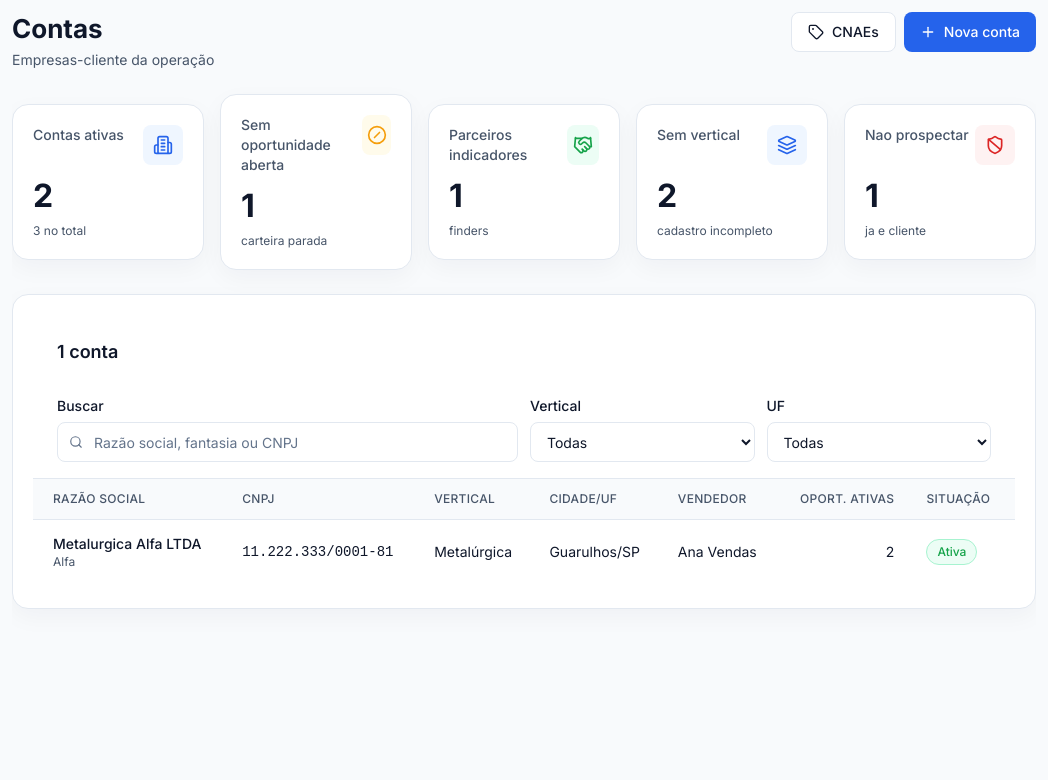
Scenario: Contas — drilldown pelos KPIs › mostra o botão de limpar quando há filtro ativo
The image size is (1048, 780).
Expected: the text "Metalurgica Alfa LTDA" is shown, [53, 534, 210, 554]
Click the button "Parceiros indicadores 1 finders" at coordinates (524, 182), box [428, 94, 620, 270]
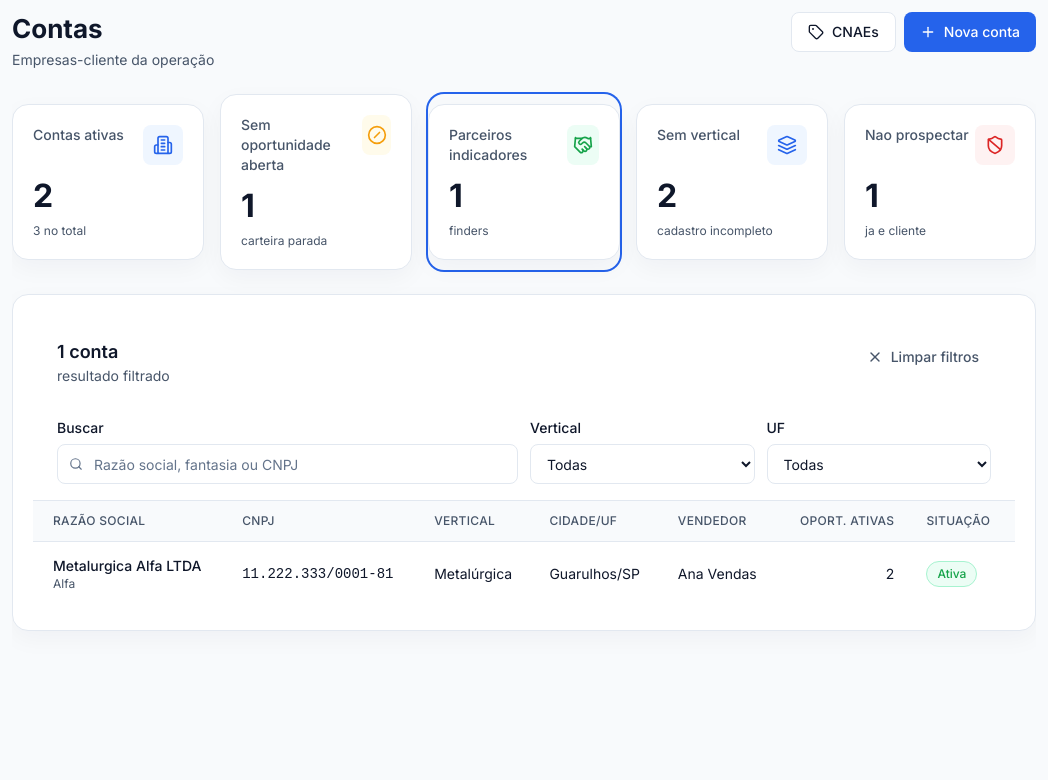
Expected: the button "Limpar filtros" is shown, [855, 339, 991, 375]
